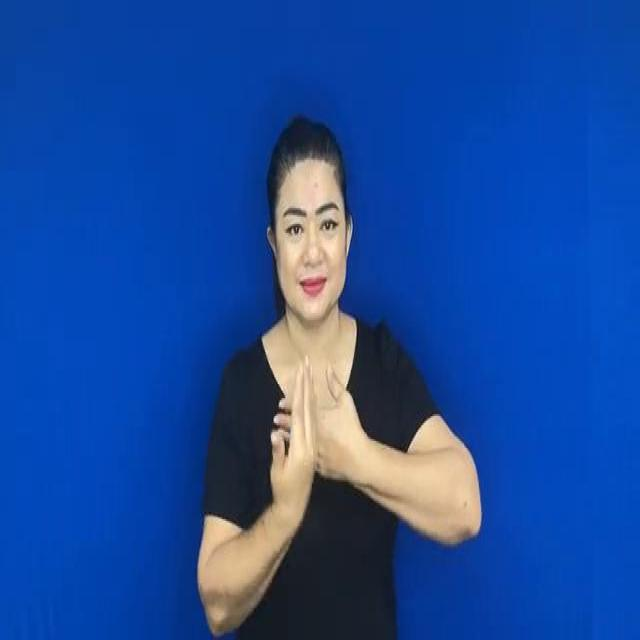bread: (263, 350, 373, 512)
